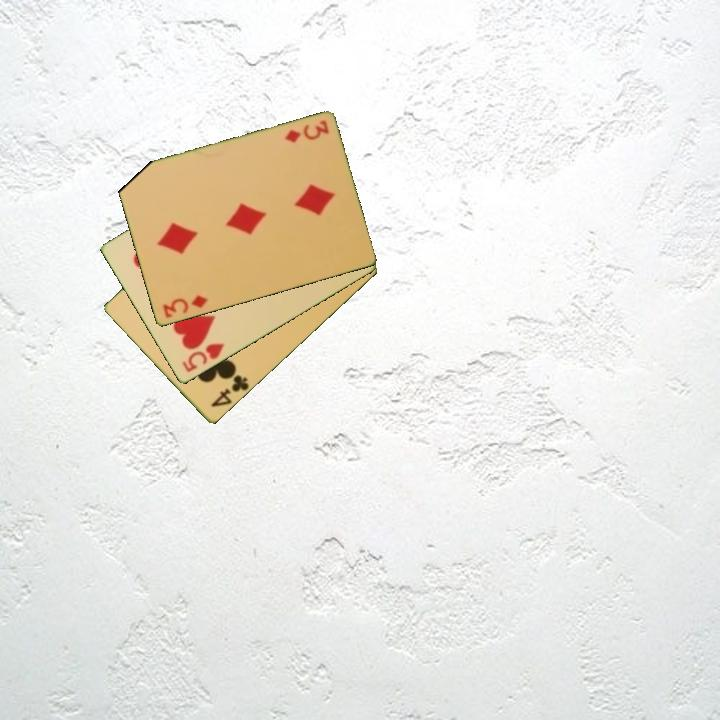3d: (159, 292, 210, 321), (281, 117, 332, 146)
4c: (207, 371, 252, 411)
5h: (178, 340, 227, 375)
